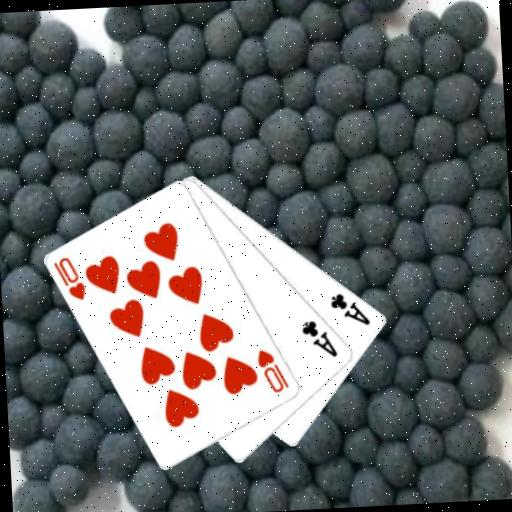10H: (254, 345, 292, 396), (51, 253, 89, 304)
AC: (327, 288, 372, 329), (299, 316, 340, 361)
